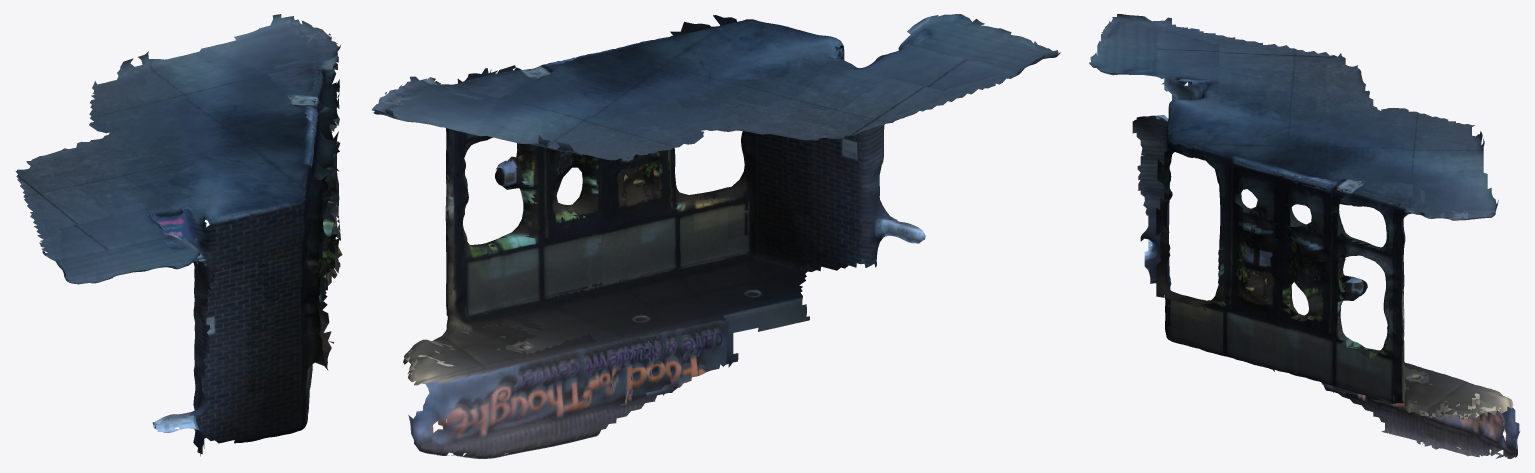
File: Outside7.obj
3 renders of one model, left to right at view 1: azimuth 30°, elevation 25°; view 2: azimuth 150°, elevation 25°; view 3: azimuth 270°, elevation 25°, orthographic. The views are drawn at different scales.
Bounding box in the file's own units: 7.15 × 5.02 × 6.66.
Materials: 1 (1 with a texture image).
